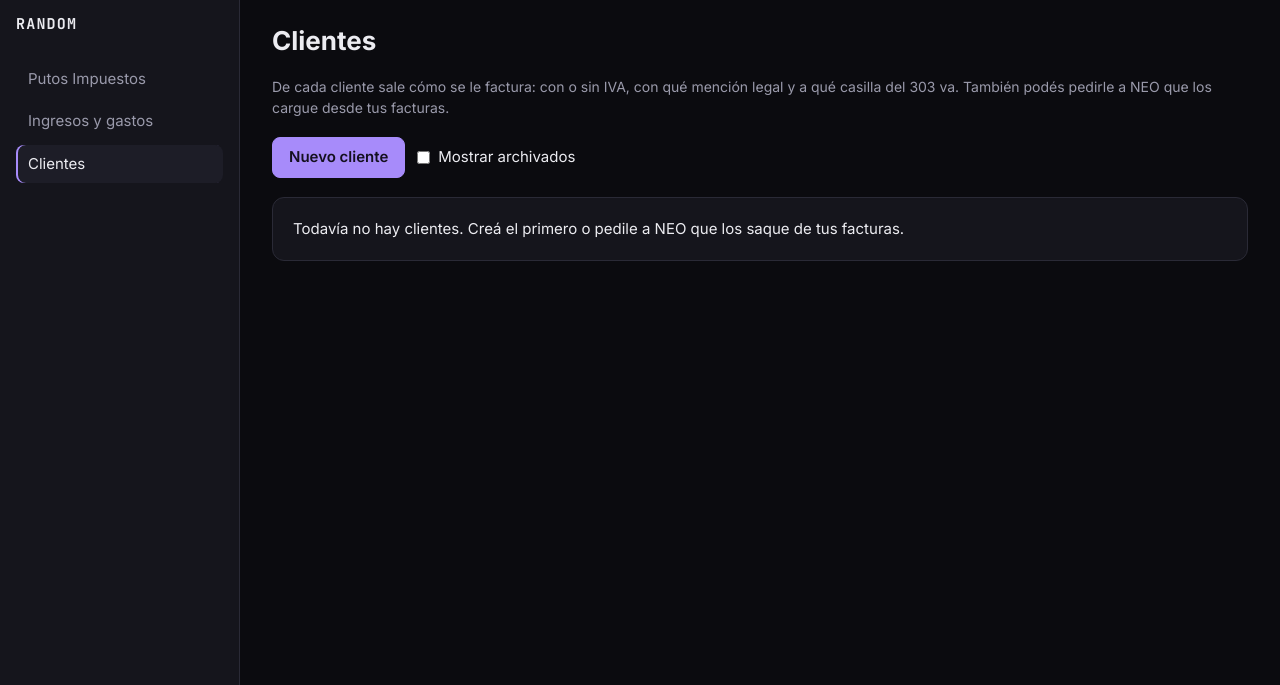
Test: clientes › muestra el error de validación y permite cancelar
Click the button "Nuevo cliente": (339, 157) [272,137,405,178]
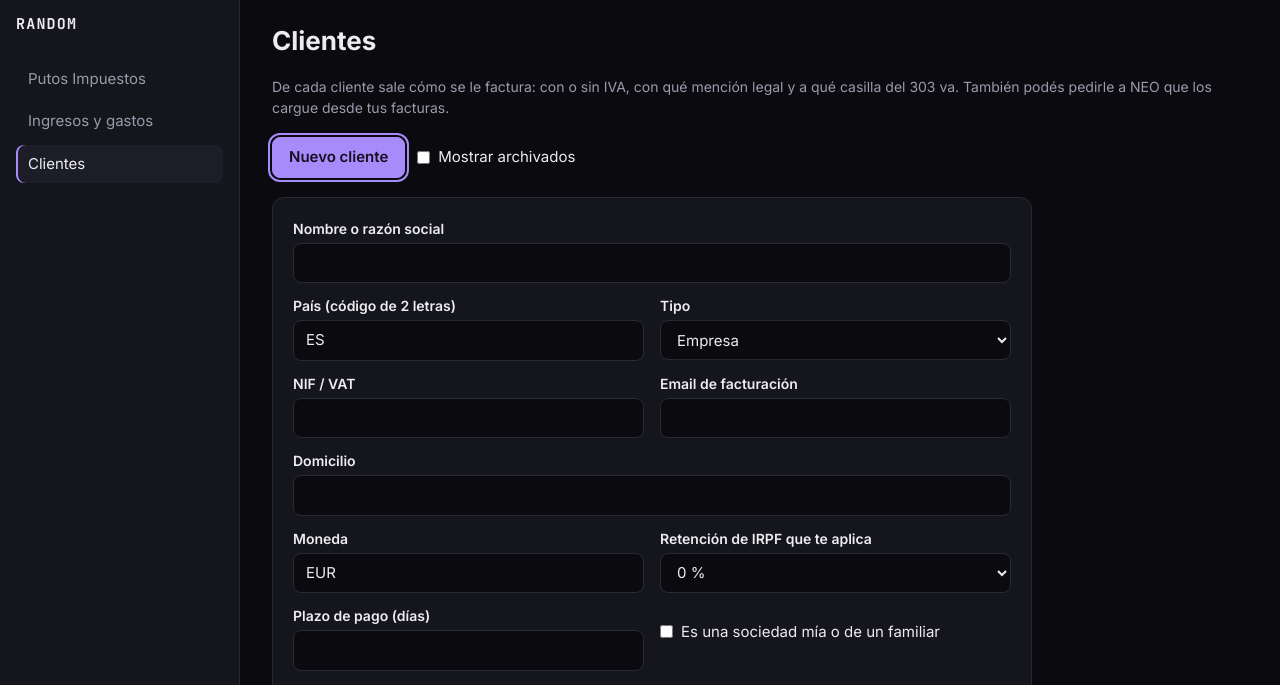
In the field labelled "Nombre o razón social": (652, 263) [293,242,1011,283], type "X"
(page scrolled)
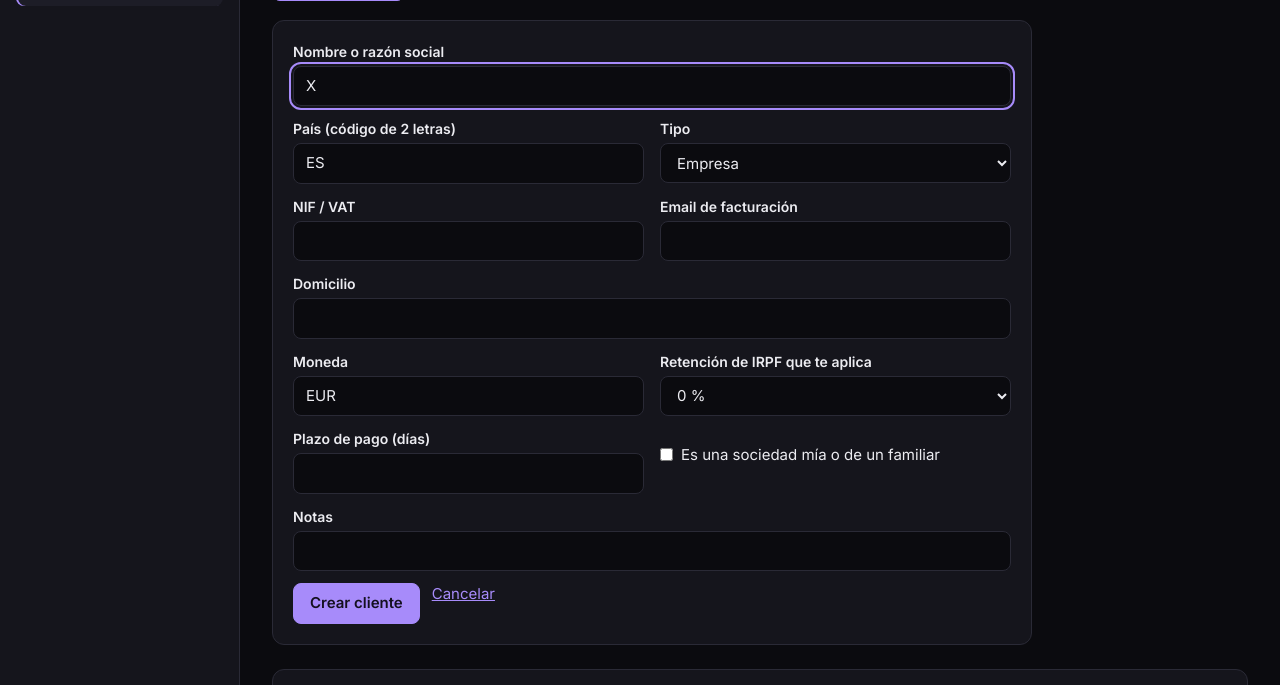
Click the button "Crear cliente": (356, 603) [293,583,420,624]
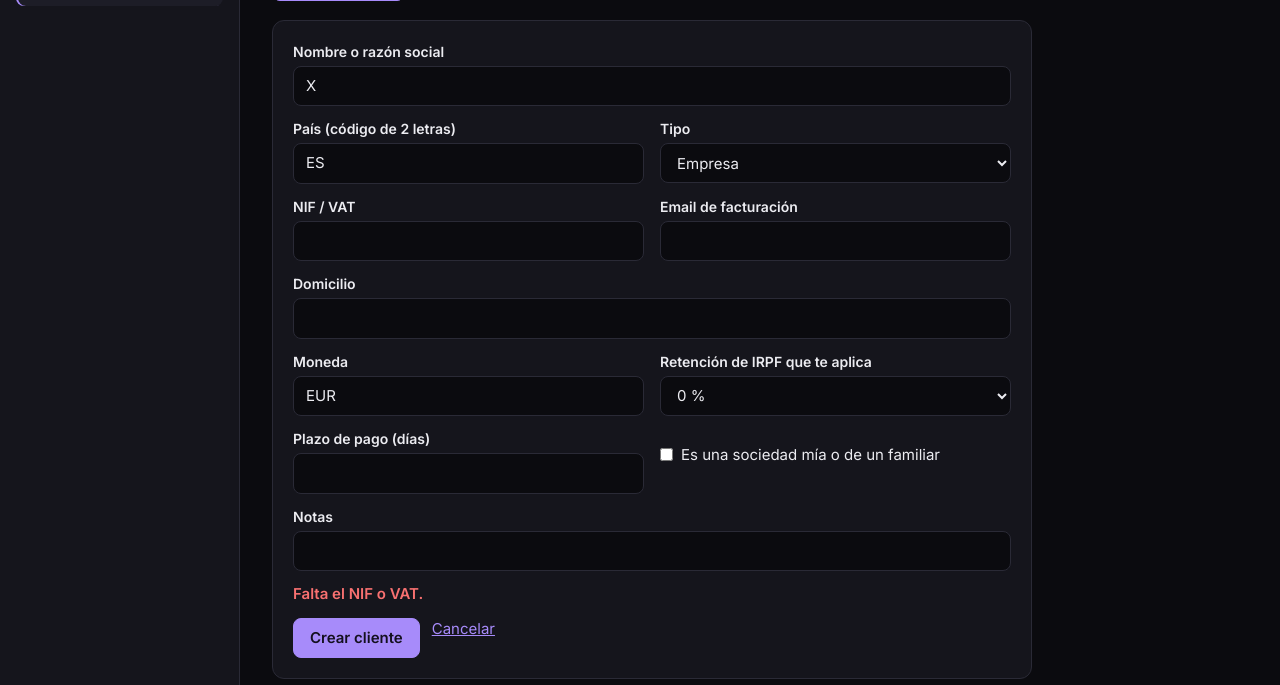
Now the button "Crear cliente" is enabled, box [293,618,420,658]
Now the message reads "Falta el NIF o VAT.", box [293,584,423,603]
Click the button "Cancelar": (463, 629) [432,618,495,640]
(page scrolled)
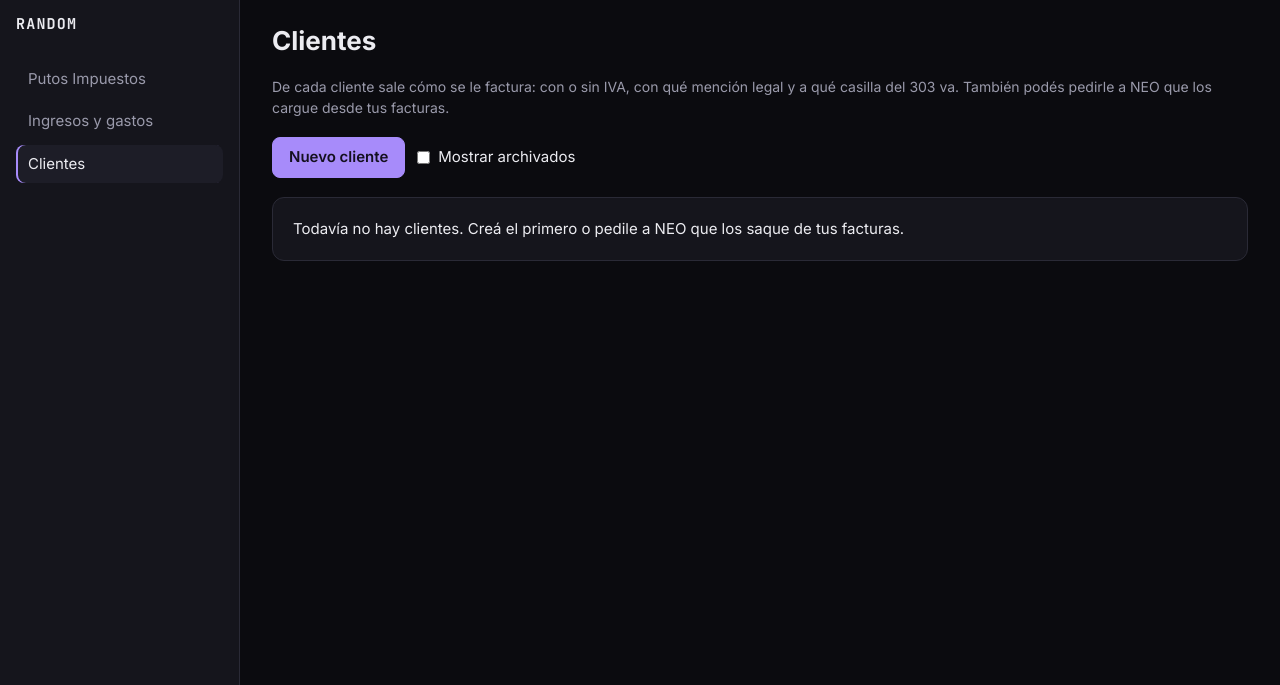
Now the form is gone
